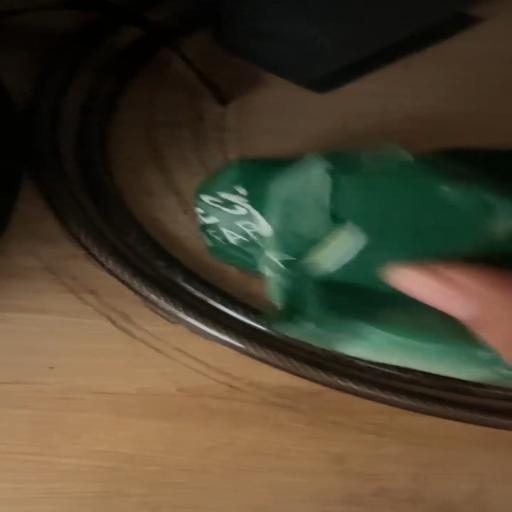cafe_xay: (196, 148, 511, 386)
